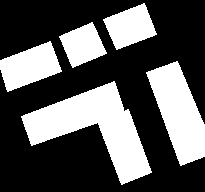parkingspot: (21, 81, 124, 145), (146, 61, 205, 165), (97, 109, 151, 184), (0, 41, 61, 91), (103, 3, 156, 49), (59, 22, 106, 67)
